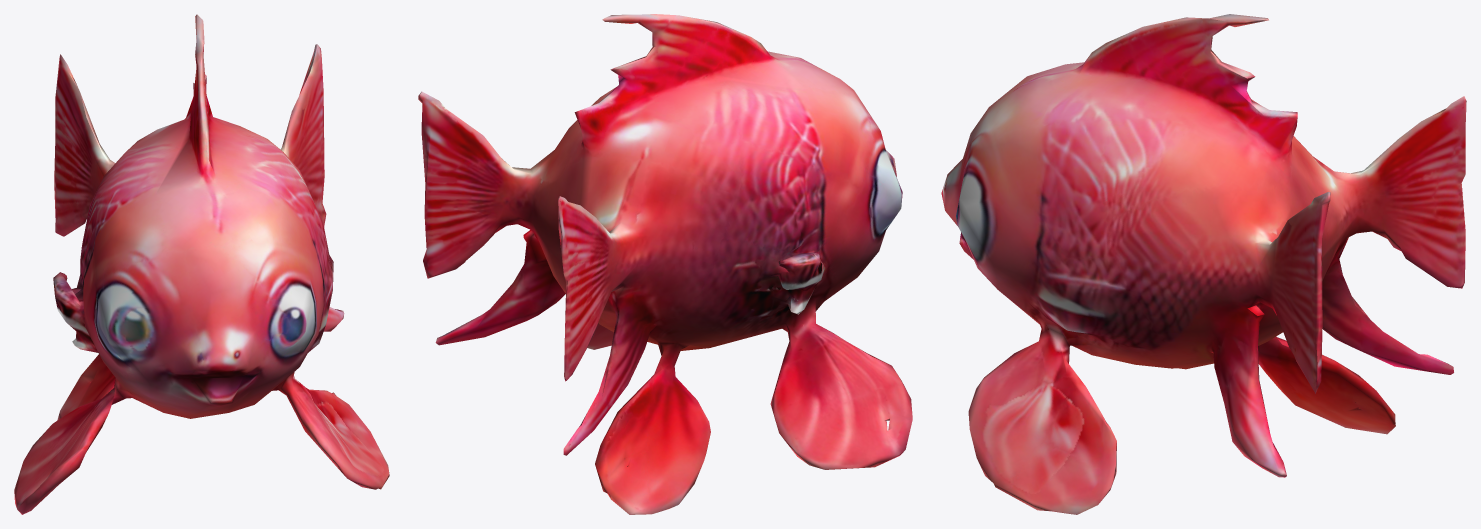
3 views of the same model, side by side, from view 1: azimuth 30°, elevation 25°; view 2: azimuth 150°, elevation 25°; view 3: azimuth 270°, elevation 25° (orthographic). The views are drawn at different scales.
Parts seen in each view (by area): view 1: ProcessedMeshNode_LOD1; view 2: ProcessedMeshNode_LOD1; view 3: ProcessedMeshNode_LOD1.
Boxes of the visible parts, box(x1,y1,x2,y2) form: ProcessedMeshNode_LOD1: box(14, 14, 389, 514); ProcessedMeshNode_LOD1: box(418, 14, 912, 514); ProcessedMeshNode_LOD1: box(941, 14, 1466, 514).
Bounding box in the file's own units: 70.67 × 73.94 × 76.12.
Materials: 1 (1 with a texture image).
